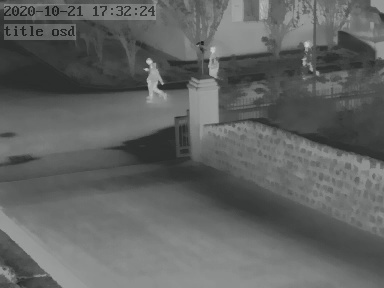person: (144, 58, 163, 101), (207, 46, 219, 78)
